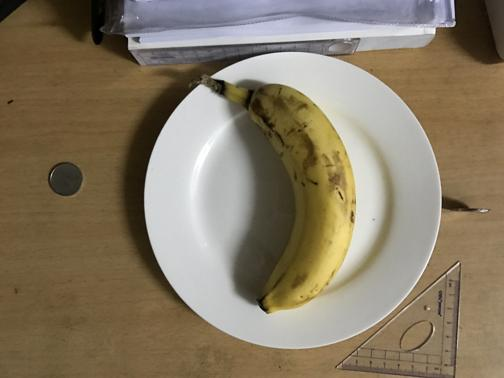banana: (212, 80, 356, 312)
coin: (47, 160, 82, 196)
